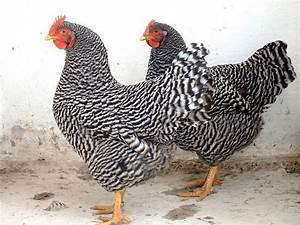hen: (33, 19, 203, 212), (136, 13, 296, 206)
